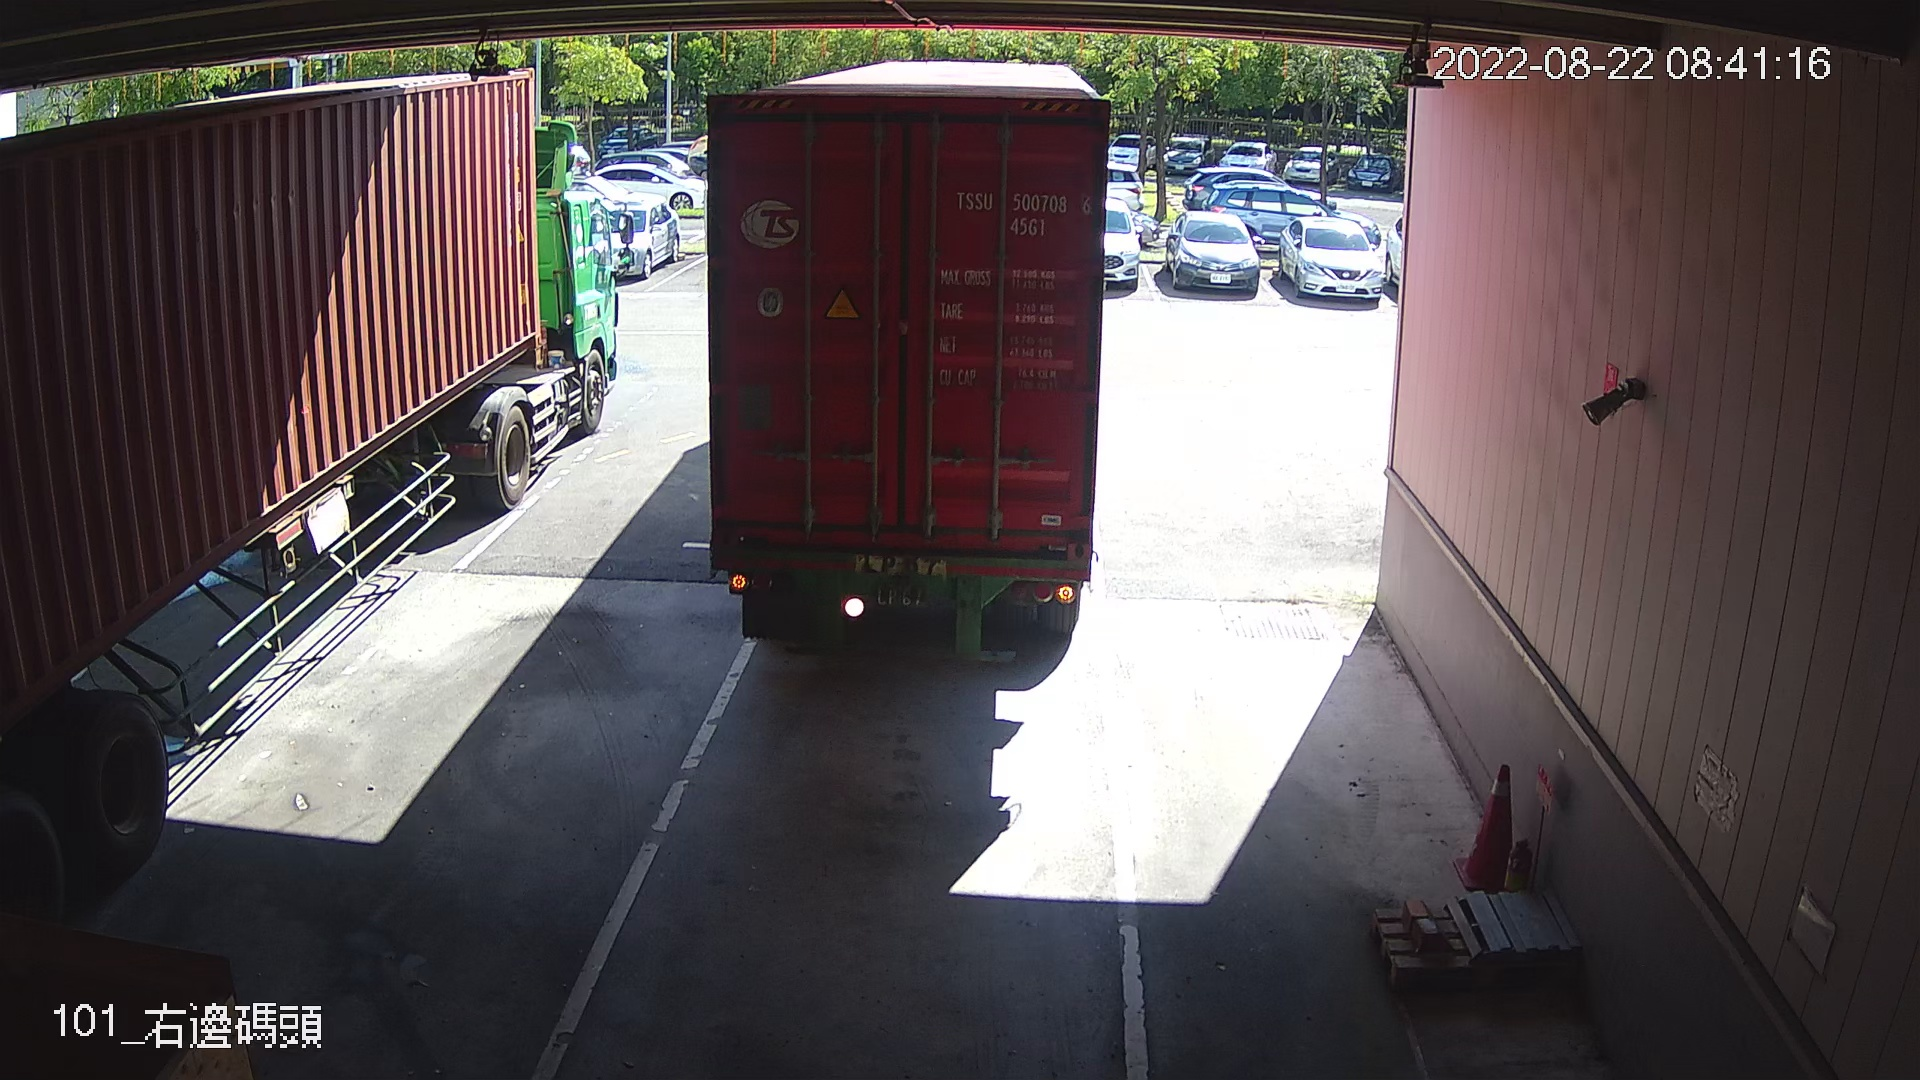container: (945, 177, 1100, 244)
